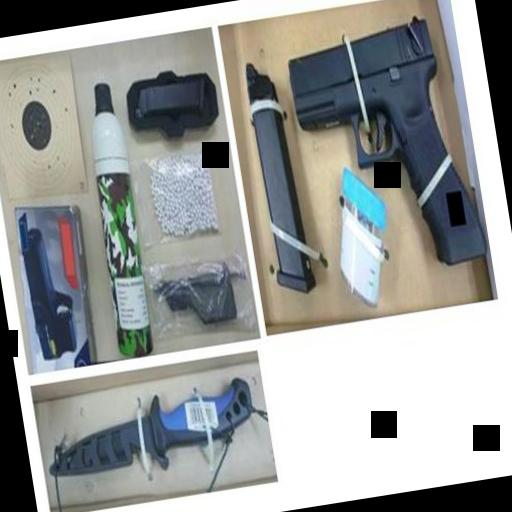Handgun: (280, 12, 487, 284)
